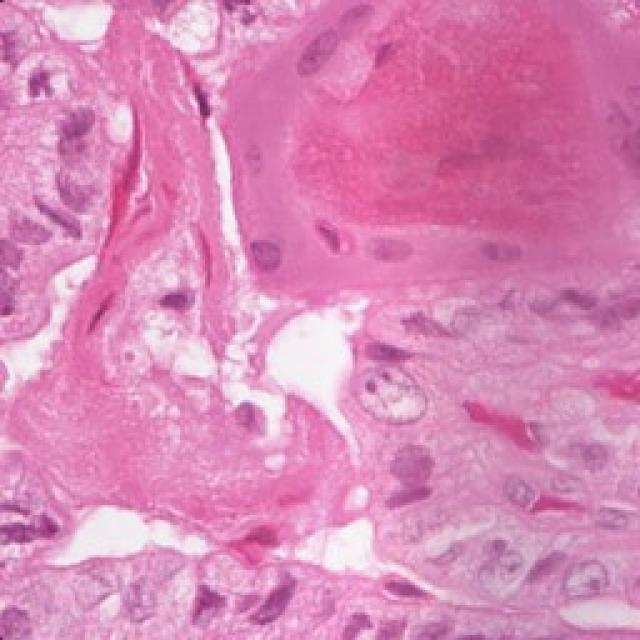abnormal: (350, 353, 447, 447), (102, 547, 175, 640), (45, 157, 127, 238), (370, 433, 452, 497), (480, 520, 532, 612), (565, 545, 633, 615), (25, 85, 115, 133), (38, 118, 112, 162)
